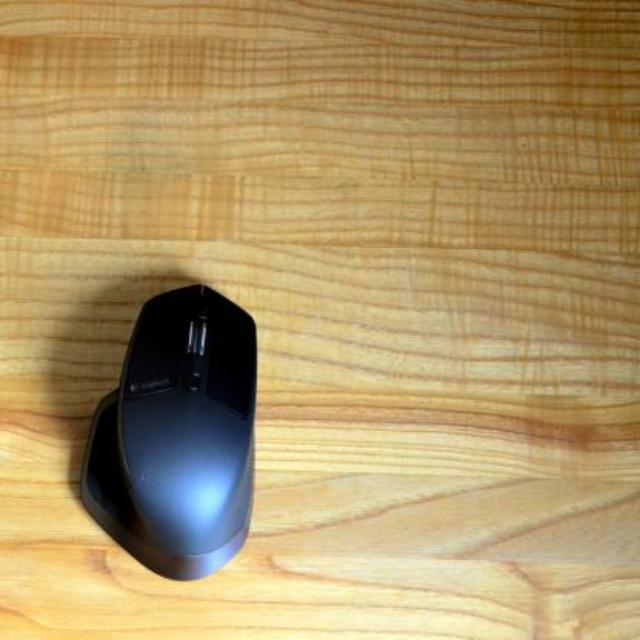Computer-Mouse: (73, 278, 277, 584)
